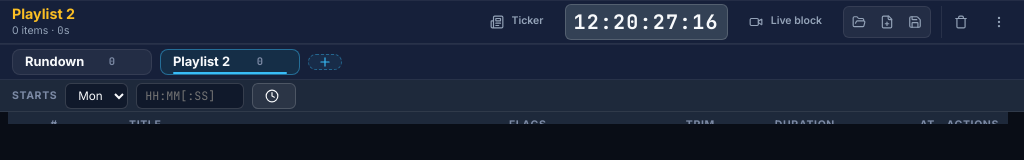
Test case: Round 3 §5.2 · Delete playlist › marks the target on the first click without deleting anything
This screenshot has width=1024, height=160.
Click the button with test id "rundown-delete-playlist".
click(965, 22)  # box x1=952 y1=8 x2=978 y2=34
(page scrolled)
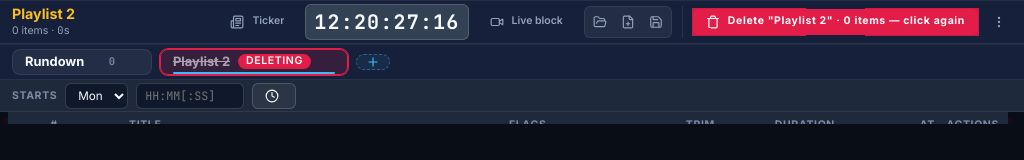
Expected: the number of buttons with class "is-delete-target" is 1, x1=160 y1=48 x2=348 y2=74
Now the text with class "is-deleting" reads "DELETING", box x1=246 y1=54 x2=303 y2=67
